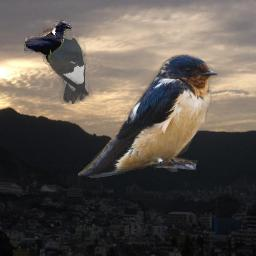Crow: (24, 20, 72, 63)
Swallow: (78, 53, 220, 178)
Woodpecker: (37, 25, 93, 104)
